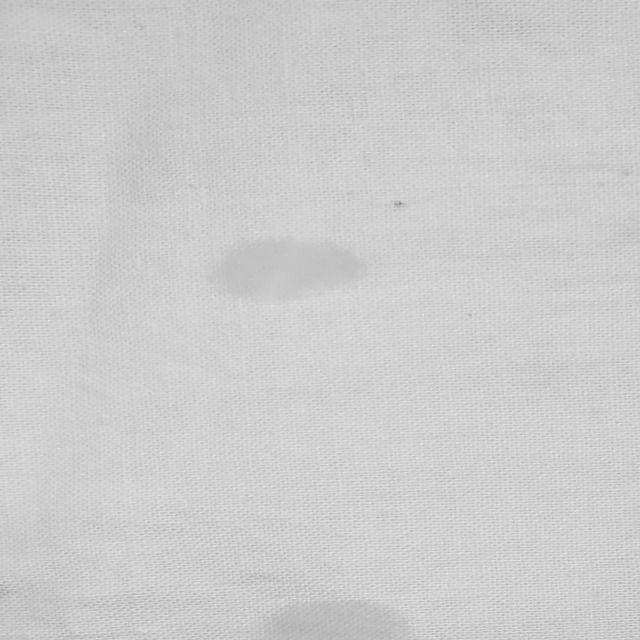Stain: (208, 237, 365, 302), (258, 603, 410, 640)
